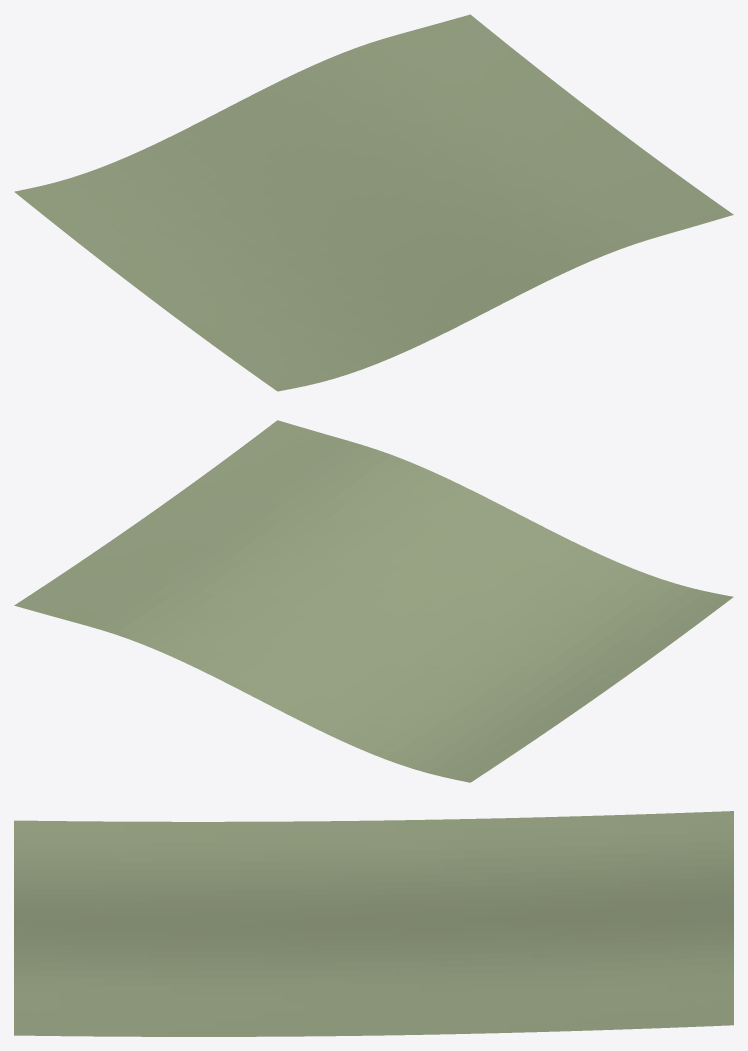
File: canyon-3-5.glb
The picture shows the model from 3 angles, top to bottom: view 1: azimuth 30°, elevation 25°; view 2: azimuth 150°, elevation 25°; view 3: azimuth 270°, elevation 25°; orthographic projection. The views are drawn at different scales.
Visible parts, largest first — view 1: canyon-3-5; view 2: canyon-3-5; view 3: canyon-3-5.
Boxes of the visible parts, left/top/right/bottom form: canyon-3-5: left=14, top=14, right=733, bottom=391; canyon-3-5: left=14, top=420, right=733, bottom=782; canyon-3-5: left=14, top=811, right=733, bottom=1036.
Bounding box in the file's own units: 128 × 20.2 × 128.
